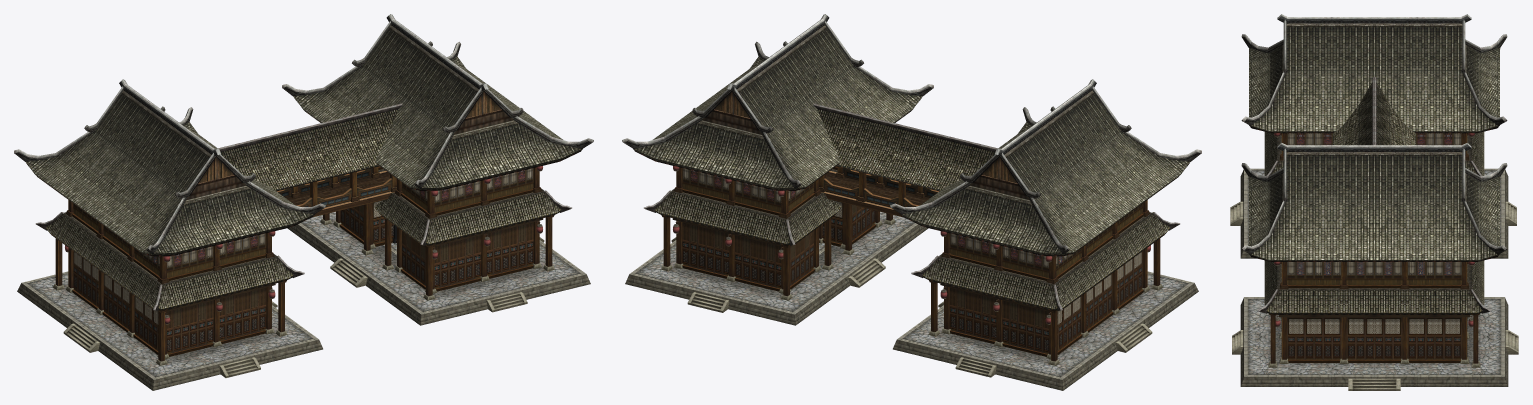
File: b1-009-hotel.fbx
3 views of the same model, side by side, from view 1: azimuth 30°, elevation 25°; view 2: azimuth 150°, elevation 25°; view 3: azimuth 270°, elevation 25° (orthographic).
Visible parts, largest first — view 1: b1-009-hotel01, b1-009-hotel02, b1-009-hotel03, ob-b1-001-015; view 2: b1-009-hotel01, b1-009-hotel02, b1-009-hotel03, ob-b1-001-015; view 3: b1-009-hotel01, b1-009-hotel02, b1-009-hotel03.
Part boxes in pixels (<box>): b1-009-hotel01: <box>14,14,593,256</box>; b1-009-hotel02: <box>35,103,571,353</box>; b1-009-hotel03: <box>17,166,590,390</box>; ob-b1-001-015: <box>65,166,542,324</box>; b1-009-hotel01: <box>622,14,1201,256</box>; b1-009-hotel02: <box>644,103,1180,353</box>; b1-009-hotel03: <box>625,166,1198,390</box>; ob-b1-001-015: <box>673,166,1150,324</box>; b1-009-hotel01: <box>1241,14,1507,289</box>; b1-009-hotel02: <box>1257,76,1491,359</box>; b1-009-hotel03: <box>1230,133,1518,390</box>.
Bounding box in the file's own units: 35.9 × 15.6 × 20.01.
